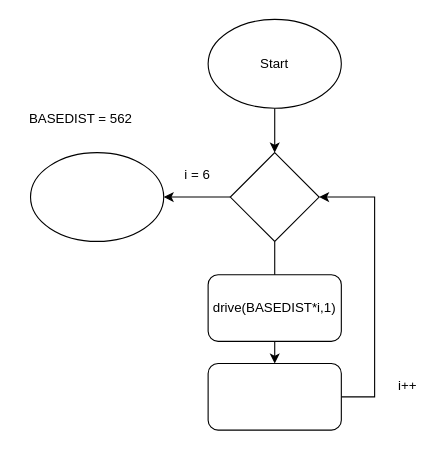
This 448x450 diagram has some shape labels left out. The shapes that lost their labels are listed below. From the top down, each one's centre as x and y in pixels, then its label:
the point at 96,196: Stop
the point at 274,396: drive(BASEDIST*i,-1)
